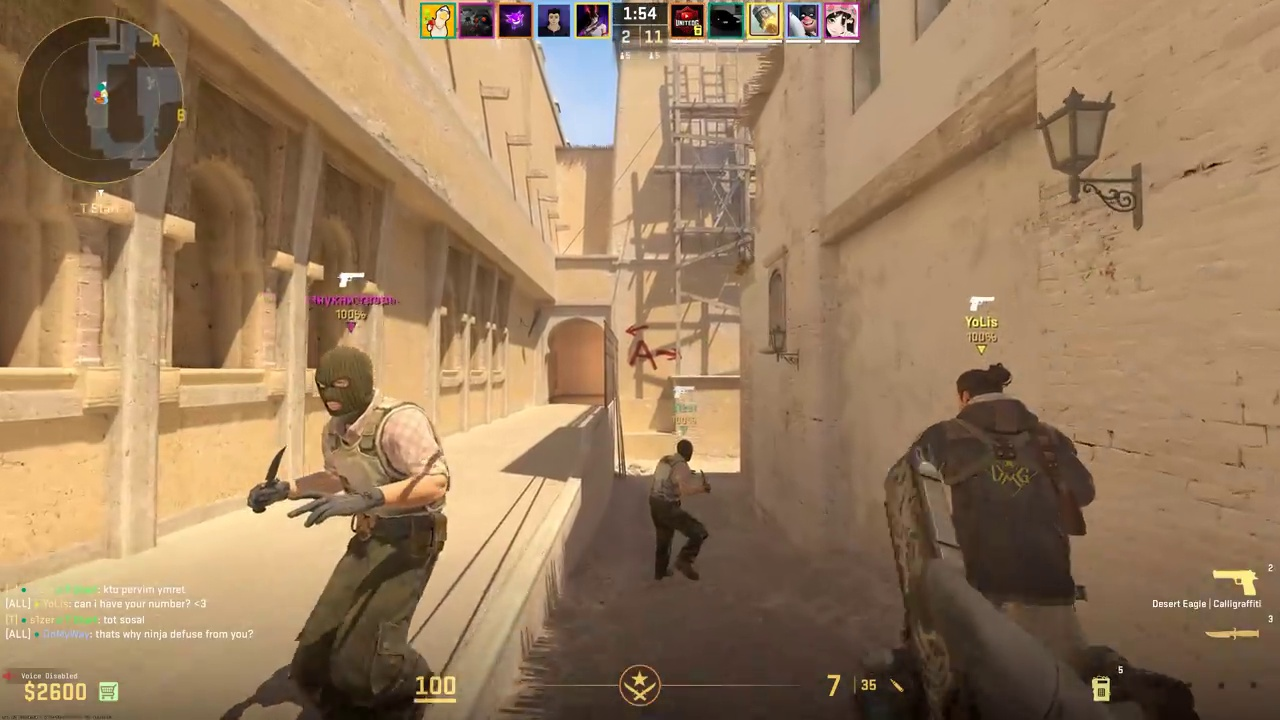Terrorist: (280, 348, 446, 718), (917, 365, 1093, 661), (650, 439, 709, 581)
